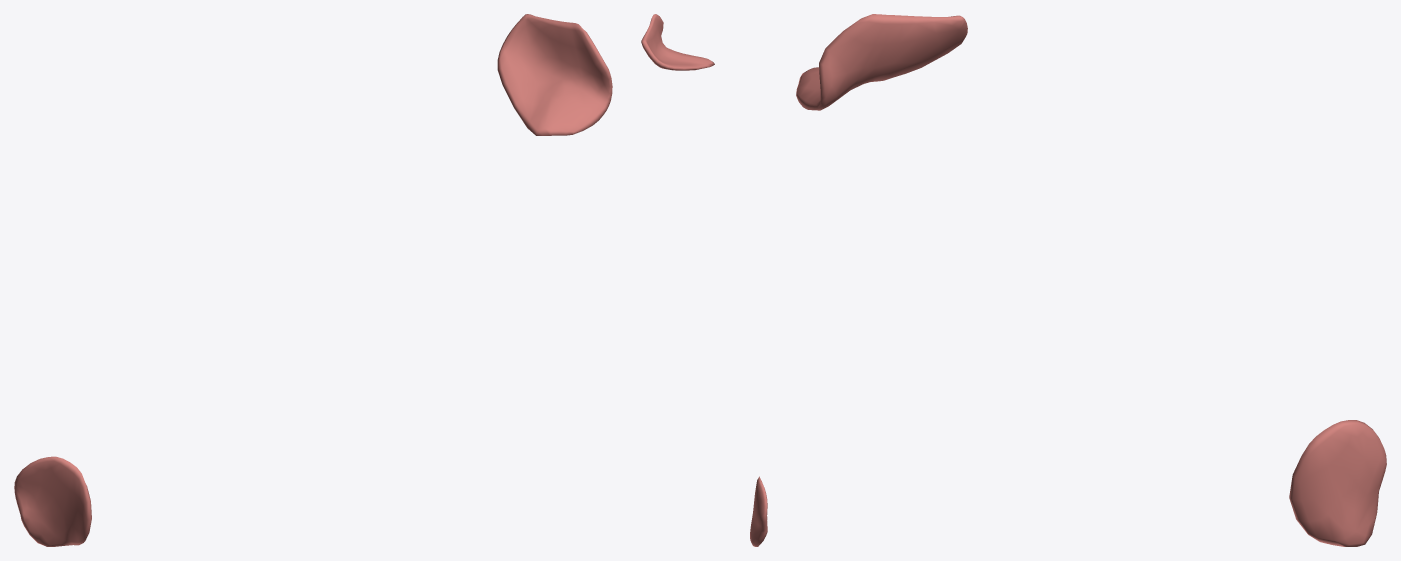
The picture shows the model from 3 angles, left to right: view 1: azimuth 30°, elevation 25°; view 2: azimuth 150°, elevation 25°; view 3: azimuth 270°, elevation 25°; orthographic projection. The views are drawn at different scales.
Parts seen in each view (by area): view 1: ZA_d86b7b49147cab7c; view 2: ZA_d86b7b49147cab7c; view 3: ZA_d86b7b49147cab7c.
Part boxes in pixels (x1,y1,x2,y2): ZA_d86b7b49147cab7c: [14, 14, 612, 546]; ZA_d86b7b49147cab7c: [641, 14, 767, 546]; ZA_d86b7b49147cab7c: [796, 14, 1386, 546].
Size of the model in its own units: 0.0241 by 0.0349 by 0.025.
